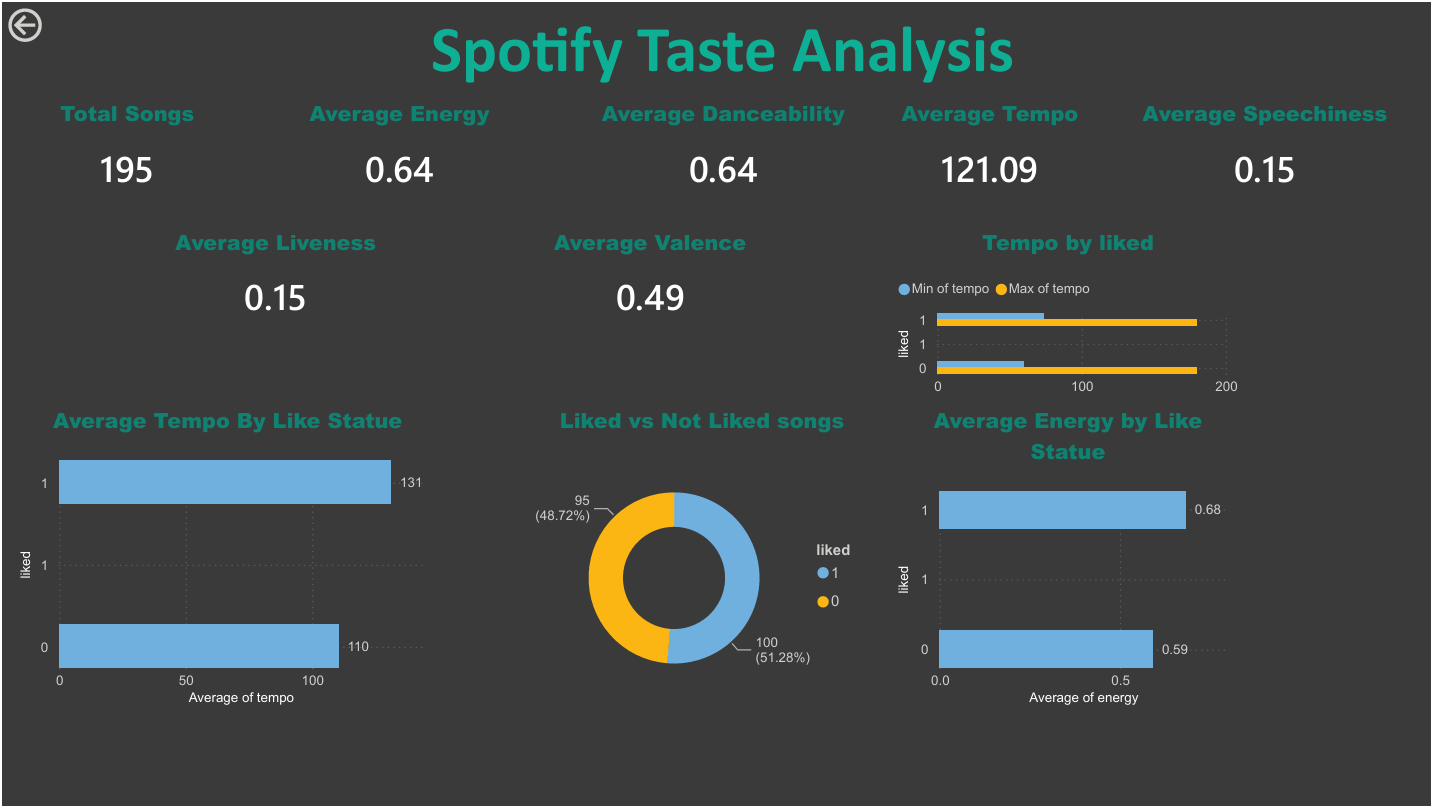

Layout of this report page (visuals, bound fields, positions):
{"tool":"powerbi","page":{"name":"Page 1","canvas":[1280,720],"ordinal":0},"visuals":[{"type":"textbox","box":[10.5,0,1269.8,84.9],"z":0},{"type":"cardVisual","title":"Average Tempo","fields":{"Data":["Avg(spotify_cleaned (2).tempo)"]},"box":[783.7,84.9,201.2,100],"z":1000},{"type":"cardVisual","title":"Average Danceability","fields":{"Data":["Avg(spotify_cleaned (2).danceability)"]},"box":[514,84.9,262.8,100],"z":2000},{"type":"cardVisual","title":"Average Energy","fields":{"Data":["Avg(spotify_cleaned (2).energy)"]},"box":[254.7,84.9,201.2,100],"z":3000},{"type":"cardVisual","title":"Average Speechiness","fields":{"Data":["Avg(spotify_cleaned (2).speechiness)"]},"box":[1000,84.9,261.6,100],"z":4000},{"type":"cardVisual","title":"Average Liveness","fields":{"Data":["Avg(spotify_cleaned (2).liveness)"]},"box":[134.1,200.1,220.9,100],"z":5000},{"type":"cardVisual","title":"Average Valence","fields":{"Data":["Avg(spotify_cleaned (2).valence)"]},"box":[469.5,200.1,220.9,100],"z":6000},{"type":"textbox","box":[10.5,419.8,220.9,119.8],"z":7000},{"type":"clusteredBarChart","title":"Tempo by liked","fields":{"Category":["spotify_cleaned (2).liked"],"Y":["Min(spotify_cleaned (2).tempo)","Max(spotify_cleaned (2).tempo)1"]},"box":[796.5,200,315.1,160.5],"z":9000},{"type":"clusteredBarChart","title":"Average Tempo By Like Statue","fields":{"Category":["spotify_cleaned (2).liked"],"Y":["Avg(spotify_cleaned (2).tempo)"]},"box":[10.5,360.5,382.6,273.3],"z":10000},{"type":"actionButton","box":[0,0,100,40],"z":11000},{"type":"donutChart","title":"Liked vs Not Liked songs","fields":{"Category":["spotify_cleaned (2).liked"],"Y":["CountNonNull(spotify_cleaned (2).liked)"]},"box":[469,360,315,273],"z":12000},{"type":"clusteredBarChart","title":"Average Energy by Like Statue","fields":{"Y":["Avg(spotify_cleaned (2).energy)"],"Category":["spotify_cleaned (2).liked"]},"box":[797,360,315,273],"z":13000},{"type":"cardVisual","title":"Total Songs","fields":{"Data":["CountNonNull(spotify_cleaned (2).liked)"]},"box":[10.7,84.5,201.2,100],"z":14000}]}

Visuals, with their boxes in screenshot pixels (x1, y1, x2, y2), scaled from the page's 1280x720 canvas onto the 1431x806 screenshot:
textbox: <bbox>12, 0, 1430, 95</bbox>
"Average Tempo" cardVisual: <bbox>876, 95, 1101, 207</bbox>
"Average Danceability" cardVisual: <bbox>575, 95, 868, 207</bbox>
"Average Energy" cardVisual: <bbox>285, 95, 510, 207</bbox>
"Average Speechiness" cardVisual: <bbox>1118, 95, 1410, 207</bbox>
"Average Liveness" cardVisual: <bbox>150, 224, 397, 336</bbox>
"Average Valence" cardVisual: <bbox>525, 224, 772, 336</bbox>
textbox: <bbox>12, 470, 259, 604</bbox>
"Tempo by liked" clusteredBarChart: <bbox>890, 224, 1243, 404</bbox>
"Average Tempo By Like Statue" clusteredBarChart: <bbox>12, 404, 439, 710</bbox>
actionButton: <bbox>0, 0, 112, 45</bbox>
"Liked vs Not Liked songs" donutChart: <bbox>524, 403, 876, 709</bbox>
"Average Energy by Like Statue" clusteredBarChart: <bbox>891, 403, 1243, 709</bbox>
"Total Songs" cardVisual: <bbox>12, 95, 237, 207</bbox>
